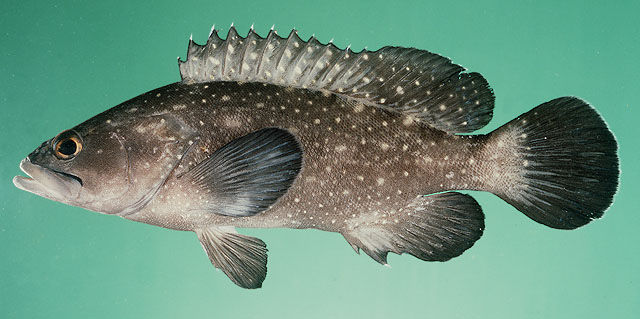fish: (12, 21, 621, 290)
